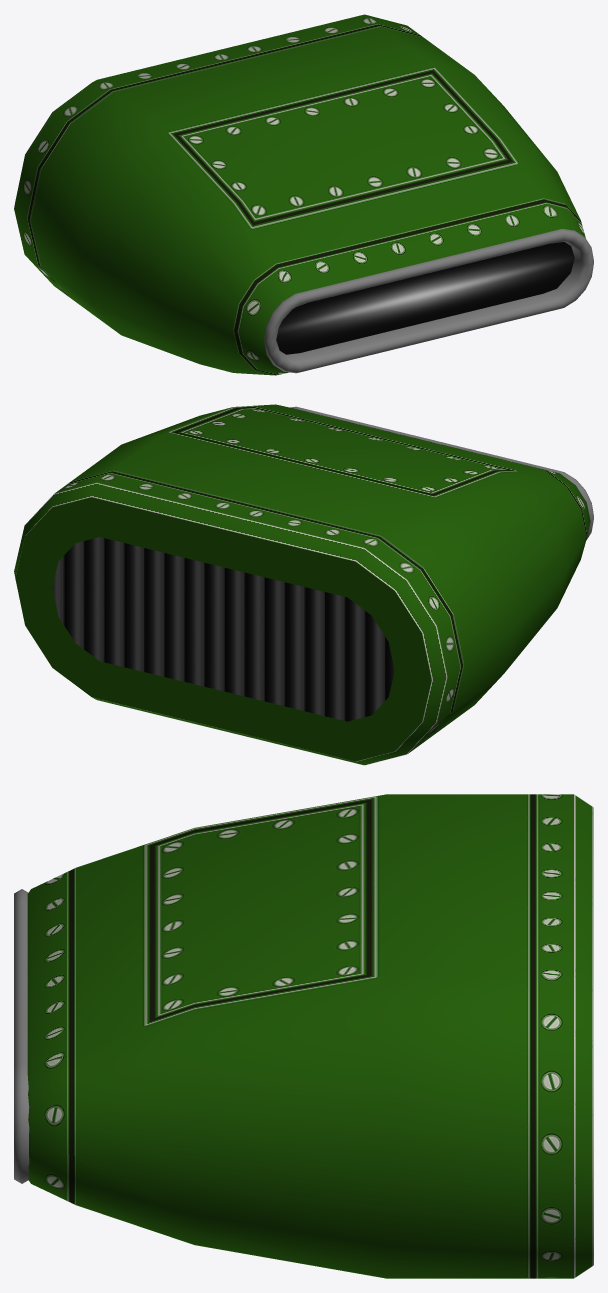
File: TR_eyeB.fbx
3 renders of one model, top to bottom at view 1: azimuth 30°, elevation 25°; view 2: azimuth 150°, elevation 25°; view 3: azimuth 270°, elevation 25°, orthographic. The views are drawn at different scales.
Parts seen in each view (by area): view 1: TR_eyeB; view 2: TR_eyeB; view 3: TR_eyeB.
Part boxes in pixels (box(x1,y1,x2,y2)): TR_eyeB: box(14, 14, 593, 375); TR_eyeB: box(14, 404, 593, 765); TR_eyeB: box(14, 794, 593, 1278).
Size of the model in its own units: 15.76 by 7.55 by 13.13.
